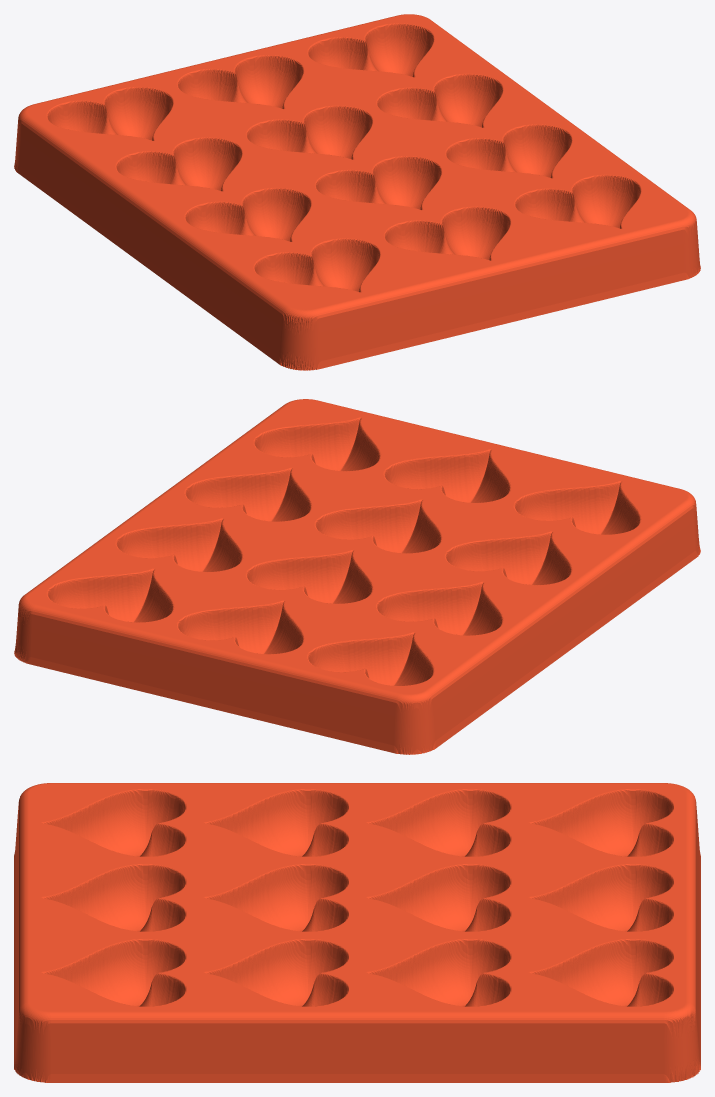
File: mold.glb
3 renders of one model, top to bottom at view 1: azimuth 30°, elevation 25°; view 2: azimuth 150°, elevation 25°; view 3: azimuth 270°, elevation 25°, orthographic. The views are drawn at different scales.
Visible parts, largest first — view 1: geometry_0; view 2: geometry_0; view 3: geometry_0.
Boxes of the visible parts, x1=… form: geometry_0: x1=14, y1=14, x2=700, y2=370; geometry_0: x1=14, y1=399, x2=700, y2=754; geometry_0: x1=14, y1=783, x2=700, y2=1082.
Bounding box in the file's own units: 0.1389 × 0.0175 × 0.1678.
